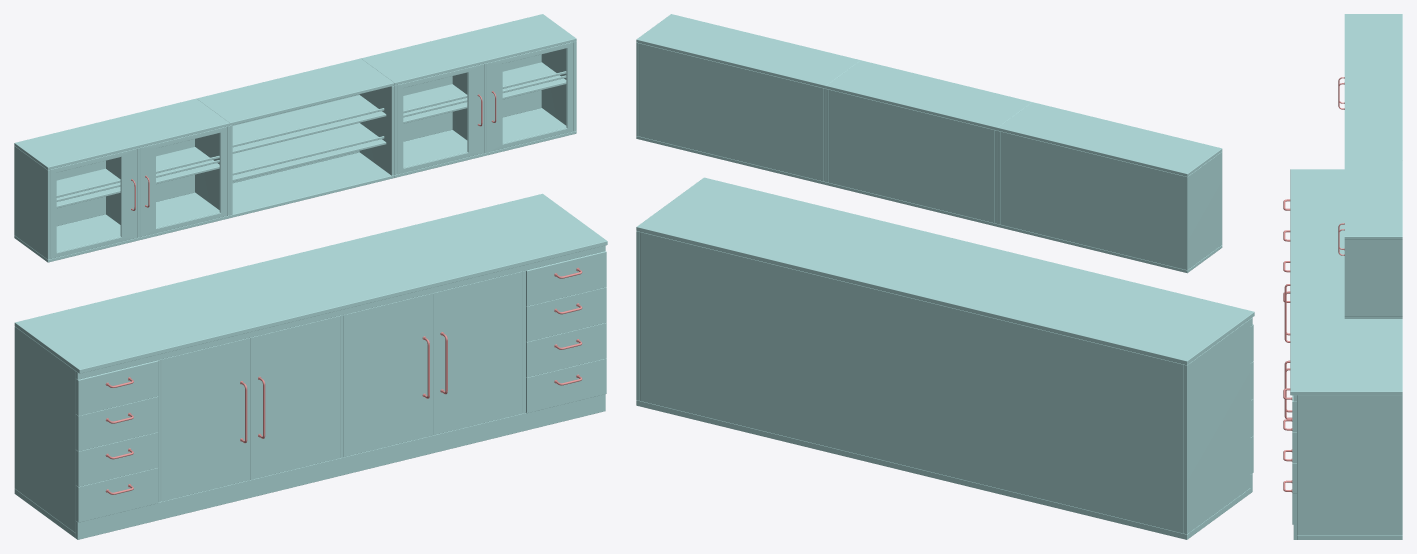
The model's file is HP_TableAndCabinets_01.fbx.
The picture shows the model from 3 angles, left to right: view 1: azimuth 30°, elevation 25°; view 2: azimuth 150°, elevation 25°; view 3: azimuth 270°, elevation 25°; orthographic projection. The views are drawn at different scales.
Parts seen in each view (by area): view 1: polySurface433; view 2: polySurface433; view 3: polySurface433.
Boxes of the visible parts, box(x1,y1,x2,y2) form: polySurface433: box(14, 14, 607, 539); polySurface433: box(636, 14, 1254, 539); polySurface433: box(1283, 14, 1402, 539).
Bounding box in the file's own units: 290 × 184 × 65.66.
